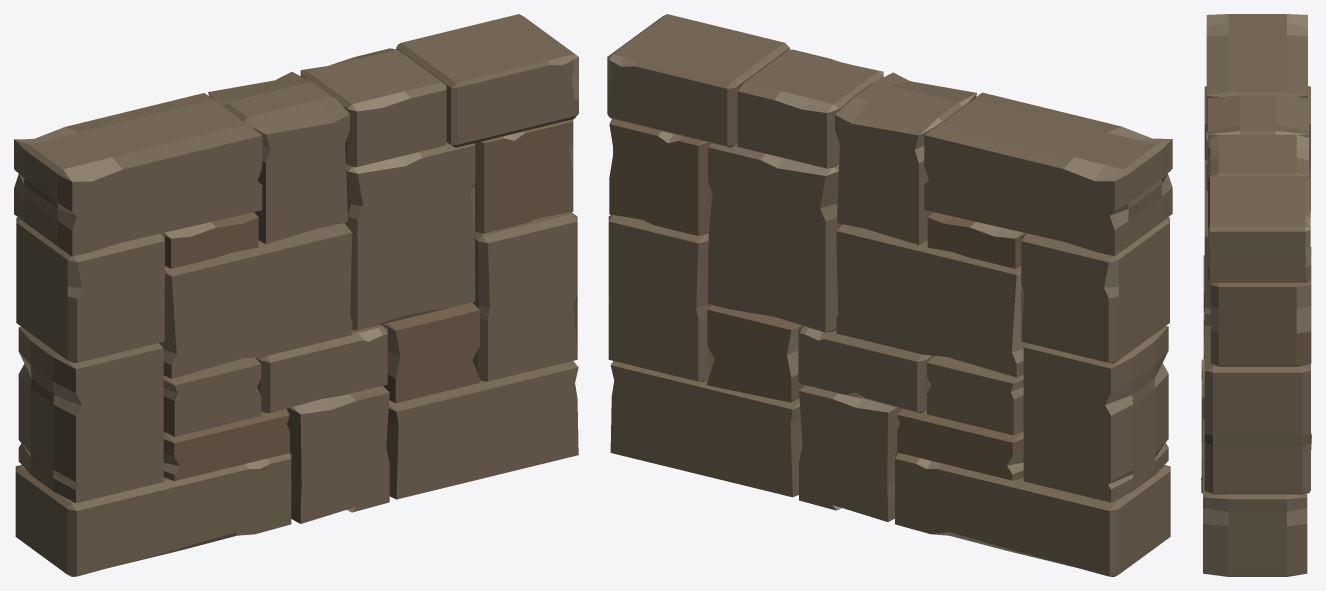
The model's file is Wall-Modular.fbx.
3 renders of one model, left to right at view 1: azimuth 30°, elevation 25°; view 2: azimuth 150°, elevation 25°; view 3: azimuth 270°, elevation 25°, orthographic. The views are drawn at different scales.
Parts seen in each view (by area): view 1: Wall_Modular; view 2: Wall_Modular; view 3: Wall_Modular.
Boxes of the visible parts, x1,y1,x2,y2 form: Wall_Modular: [14, 14, 578, 576]; Wall_Modular: [607, 14, 1172, 576]; Wall_Modular: [1201, 14, 1311, 576].
Size of the model in its own units: 800 by 602 by 172.
